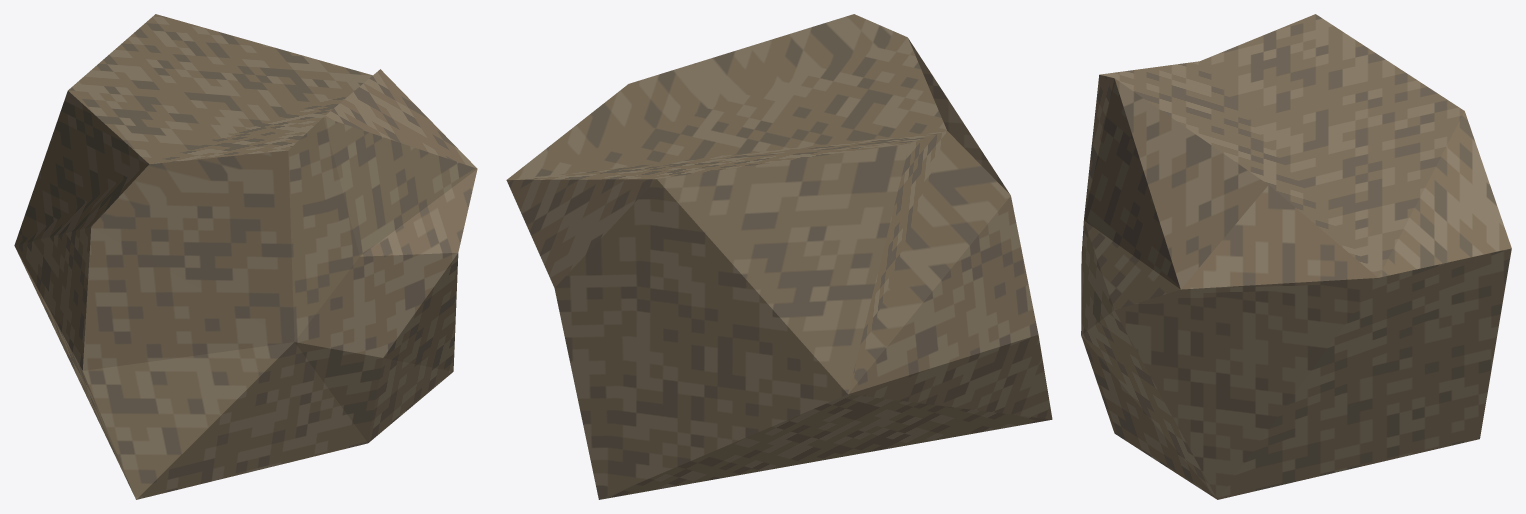
Rendered from Piedra1.fbx.
The picture shows the model from 3 angles, left to right: view 1: azimuth 30°, elevation 25°; view 2: azimuth 150°, elevation 25°; view 3: azimuth 270°, elevation 25°; orthographic projection. The views are drawn at different scales.
Parts seen in each view (by area): view 1: PIEDRA1; view 2: PIEDRA1; view 3: PIEDRA1.
Boxes of the visible parts, left/top/right/bottom form: PIEDRA1: left=14, top=14, right=477, bottom=499; PIEDRA1: left=506, top=14, right=1052, bottom=499; PIEDRA1: left=1081, top=14, right=1511, bottom=499.
Size of the model in its own units: 250 by 200 by 234.
